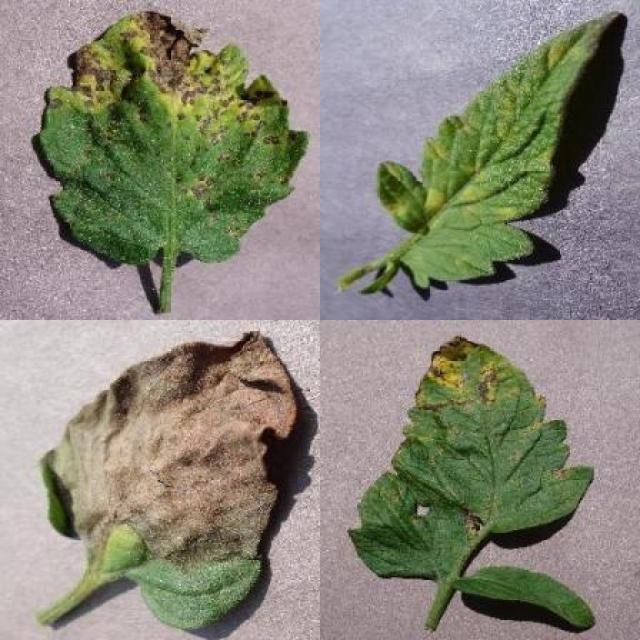Late Blight: (37, 330, 297, 627)
Leaf Mold: (376, 11, 620, 290)
Septoria: (36, 12, 310, 268), (352, 337, 601, 580)
